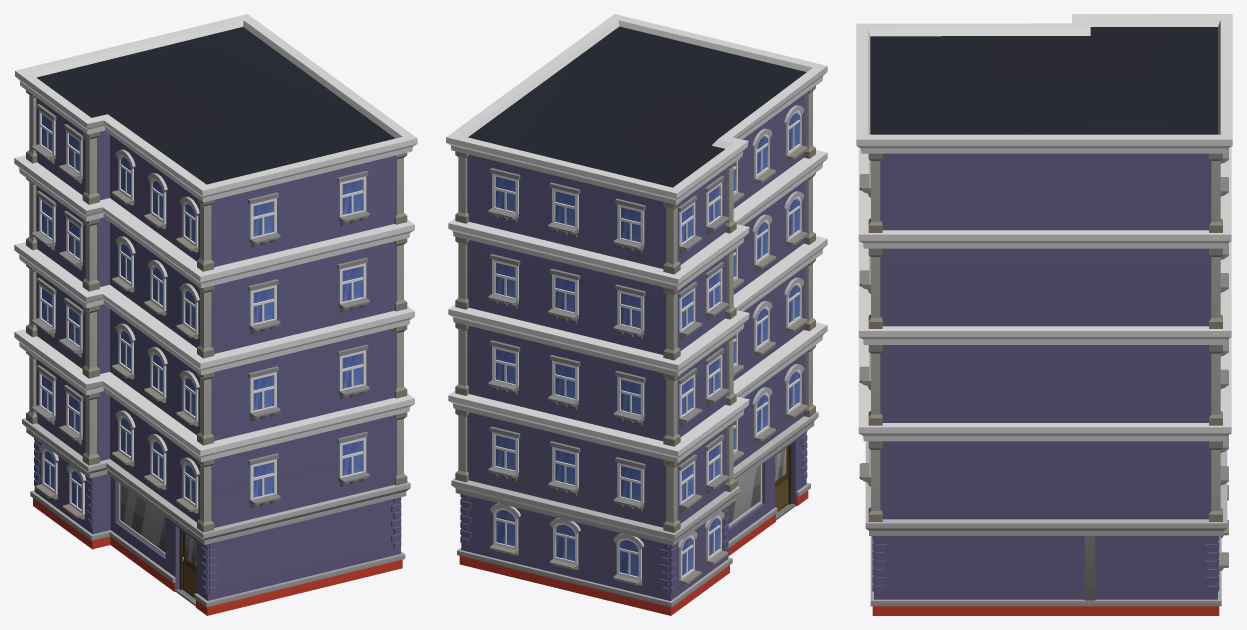
The model's file is Building_1_5_K.fbx.
The picture shows the model from 3 angles, left to right: view 1: azimuth 30°, elevation 25°; view 2: azimuth 150°, elevation 25°; view 3: azimuth 270°, elevation 25°; orthographic projection. The views are drawn at different scales.
Visible parts, largest first — view 1: Building_1_5_K; view 2: Building_1_5_K; view 3: Building_1_5_K.
Boxes of the visible parts, <box> form: Building_1_5_K: <box>14,14,417,615</box>; Building_1_5_K: <box>446,14,827,615</box>; Building_1_5_K: <box>856,14,1232,615</box>.
Bounding box in the file's own units: 847 × 1501 × 1067.
